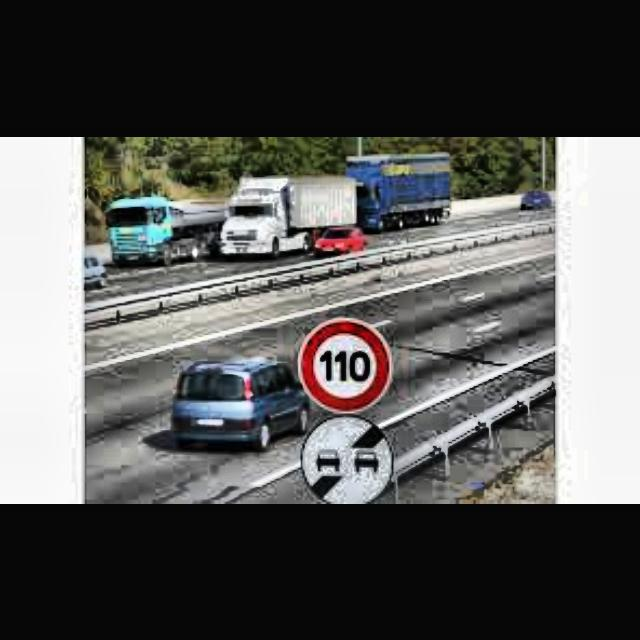speed_110: (296, 316, 394, 416)
